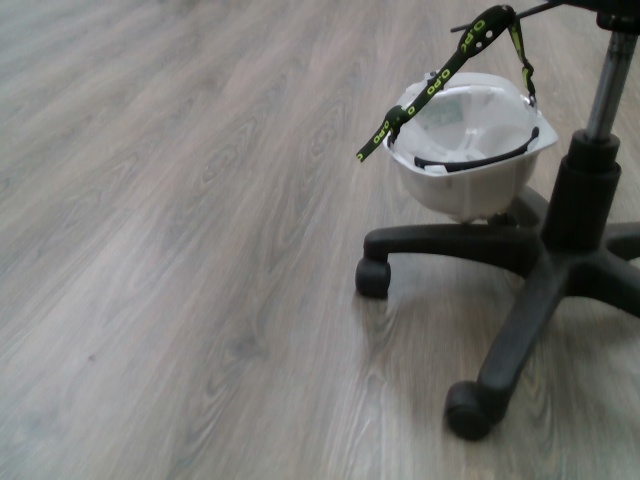helmet: (377, 67, 560, 222)
